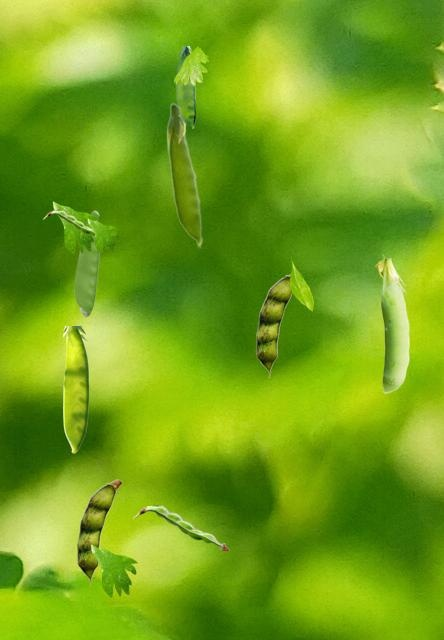pea: (166, 102, 202, 247), (77, 479, 121, 585), (256, 271, 300, 377), (375, 254, 408, 392), (133, 505, 228, 549), (63, 326, 88, 452), (74, 210, 99, 316), (176, 46, 194, 127), (43, 210, 94, 236)
